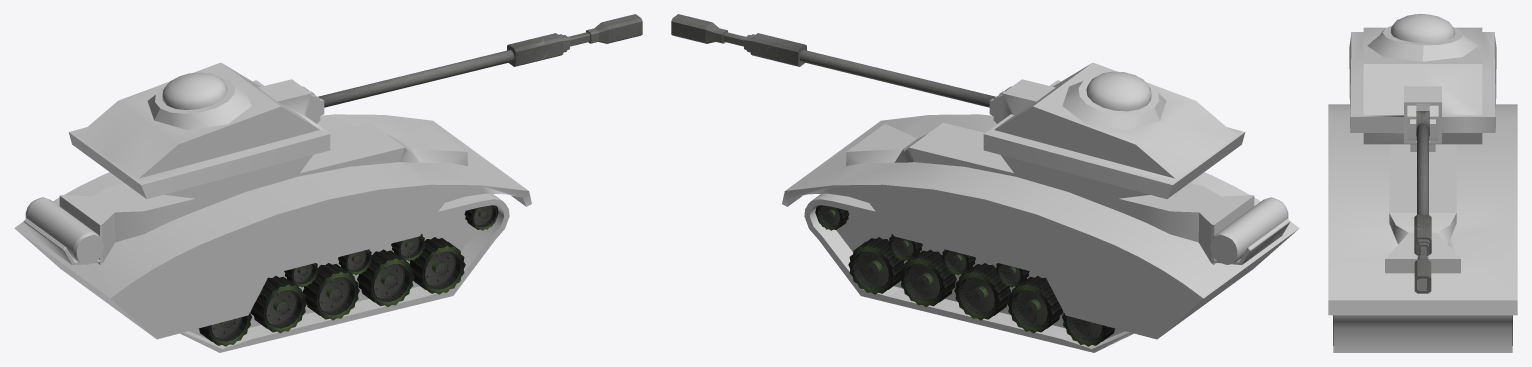
Rendered from Tank 00 v2.FBX.
3 renders of one model, left to right at view 1: azimuth 30°, elevation 25°; view 2: azimuth 150°, elevation 25°; view 3: azimuth 270°, elevation 25°, orthographic.
Visible parts, largest first — view 1: Chasis, Upper Body, Cannon, Orugas, Rueda 07 (Der), Rueda 05 (Der), Rueda 03 (Der), Rueda 09 (Der), Rueda 01 (Der), Rueda 10 (Der), Rueda 06 (Der), Rueda 08 (Der) (+1 smaller); view 2: Chasis, Upper Body, Cannon, Orugas, Rueda 07 (Izq), Rueda 05 (Izq), Rueda 03 (Izq), Rueda 09 (Izq), Rueda 01 (Izq), Rueda 10 (Izq), Rueda 06 (Izq), Rueda 08 (Izq) (+1 smaller); view 3: Chasis, Upper Body, Orugas, Cannon, Rotor.
Boxes of the visible parts, x1,y1,x2,y2 form: Chasis: (14, 114, 531, 339); Upper Body: (68, 62, 330, 199); Cannon: (318, 14, 642, 107); Orugas: (180, 193, 509, 352); Rueda 07 (Der): (357, 249, 414, 306); Rueda 05 (Der): (302, 263, 359, 320); Rueda 03 (Der): (250, 276, 306, 333); Rueda 09 (Der): (409, 237, 465, 294); Rueda 01 (Der): (198, 311, 252, 346); Rueda 10 (Der): (464, 205, 498, 230); Rueda 06 (Der): (338, 249, 372, 275); Rueda 08 (Der): (391, 234, 425, 261); Chasis: (782, 114, 1299, 339); Upper Body: (983, 62, 1245, 200); Cannon: (671, 14, 995, 107); Orugas: (804, 193, 1133, 352); Rueda 07 (Izq): (899, 249, 956, 306); Rueda 05 (Izq): (954, 263, 1011, 320); Rueda 03 (Izq): (1007, 276, 1063, 333); Rueda 09 (Izq): (848, 237, 904, 294); Rueda 01 (Izq): (1062, 312, 1115, 346); Rueda 10 (Izq): (815, 205, 849, 230); Rueda 06 (Izq): (941, 249, 975, 275); Rueda 08 (Izq): (888, 234, 922, 261); Chasis: (1328, 104, 1517, 315); Upper Body: (1349, 14, 1496, 144); Orugas: (1333, 315, 1512, 352); Cannon: (1414, 123, 1431, 293); Rotor: (1416, 111, 1429, 136).
Size of the model in its own units: 87.86 by 33.42 by 24.59.
